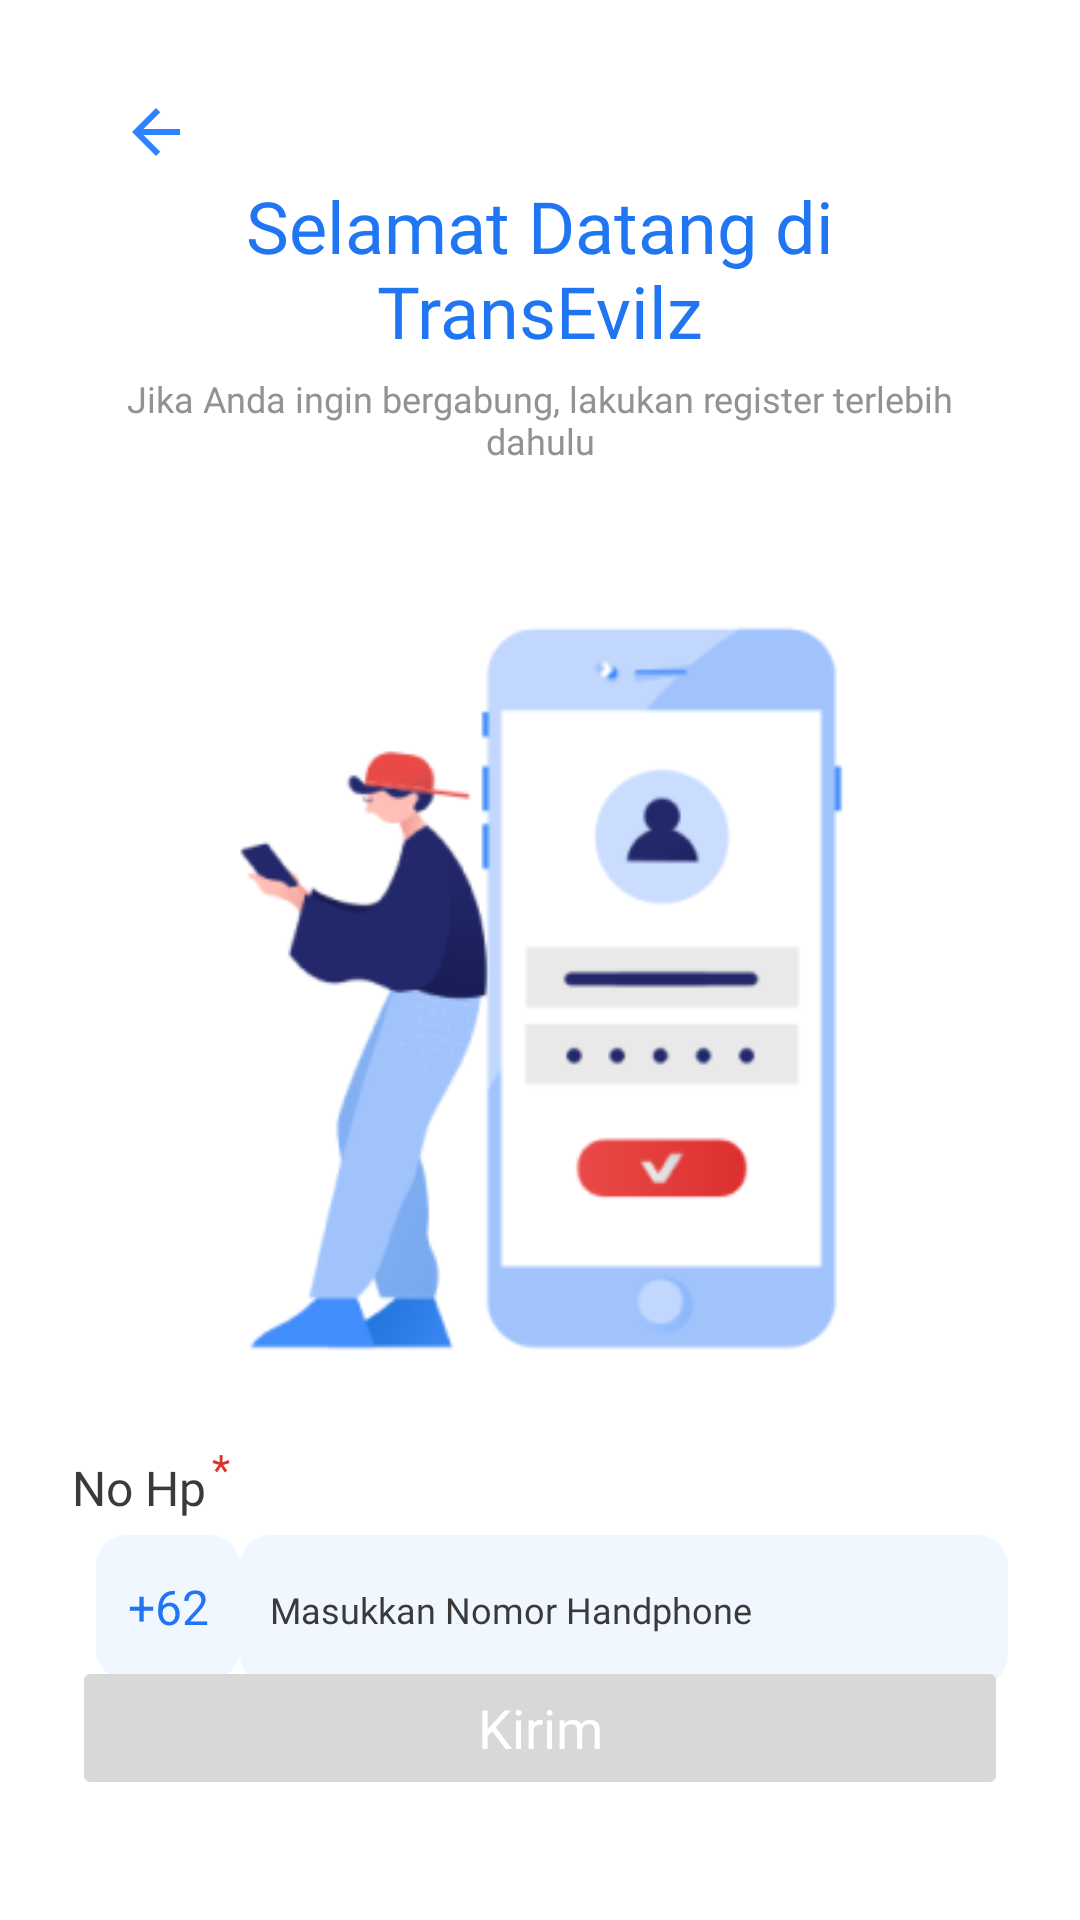

Icon bounding boxes for this 1080 x 1920 phone screenshot, format (x1, y1, x2, y2):
arrow back: (132, 108, 180, 156)
